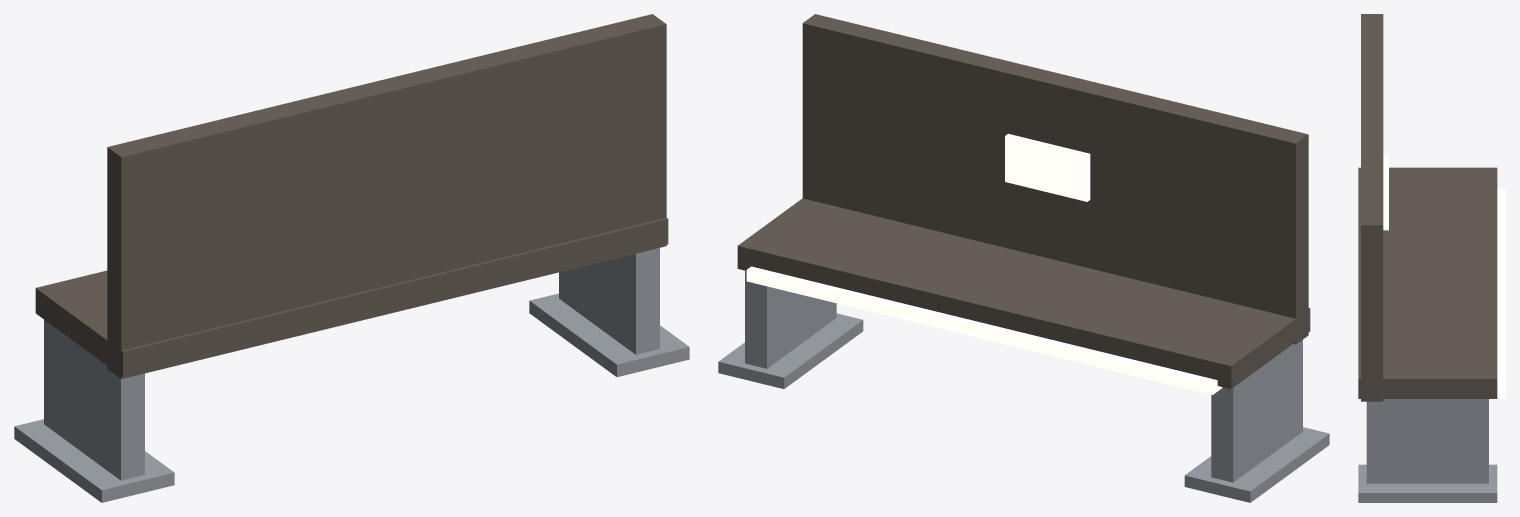
File: bench.glb
The picture shows the model from 3 angles, left to right: view 1: azimuth 30°, elevation 25°; view 2: azimuth 150°, elevation 25°; view 3: azimuth 270°, elevation 25°; orthographic projection. The views are drawn at different scales.
Visible parts, largest first — view 1: Seat, Leg_L; view 2: Seat, Leg_L, Under_Light; view 3: Seat, Leg_L, Under_Light.
Part boxes in pixels (x1,y1,x2,y2): Seat: (35,14,668,378); Leg_L: (14,248,689,502); Seat: (737,14,1310,388); Leg_L: (718,270,1329,502); Under_Light: (746,133,1222,394); Seat: (1358,14,1497,401); Leg_L: (1358,399,1497,502); Under_Light: (1383,155,1505,398).
Size of the model in its own units: 1.94 by 1.07 by 0.53.
